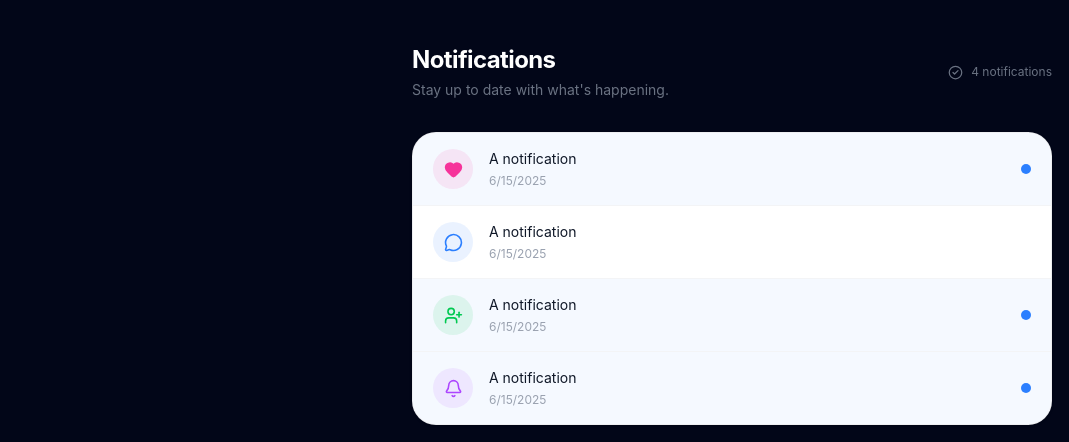
Test: NotificationsPage › marks unread items as read and navigates to related posts and profiles
The image size is (1069, 442).
Later steps or results of the test are not shown.
Click the 1st button "A notification 6/15/2025".
click(453, 169)  # box left=413, top=133, right=1051, bottom=206
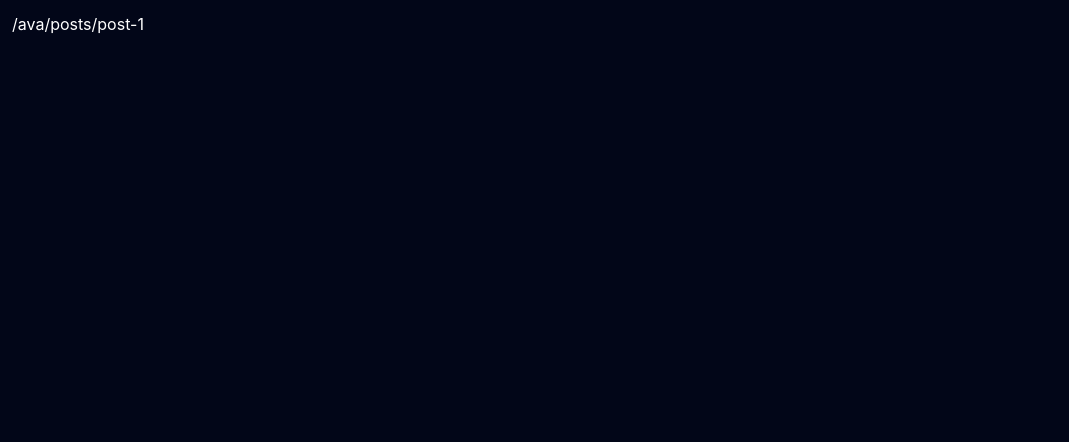
expect the text with test id "location" reads "/ava/posts/post-1": met, box left=12, top=14, right=144, bottom=34
